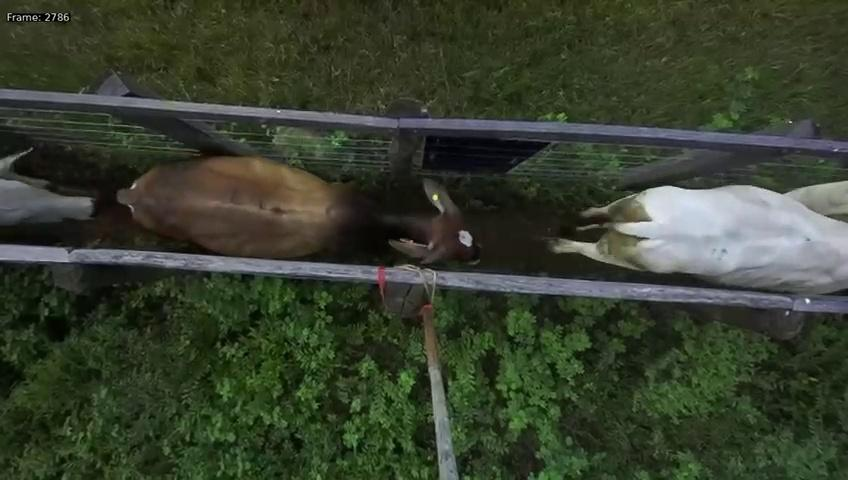cattle: (108, 146, 490, 279)
